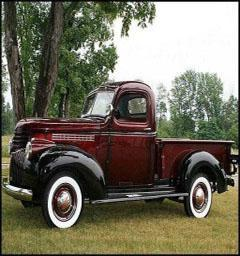car: (4, 75, 229, 226)
